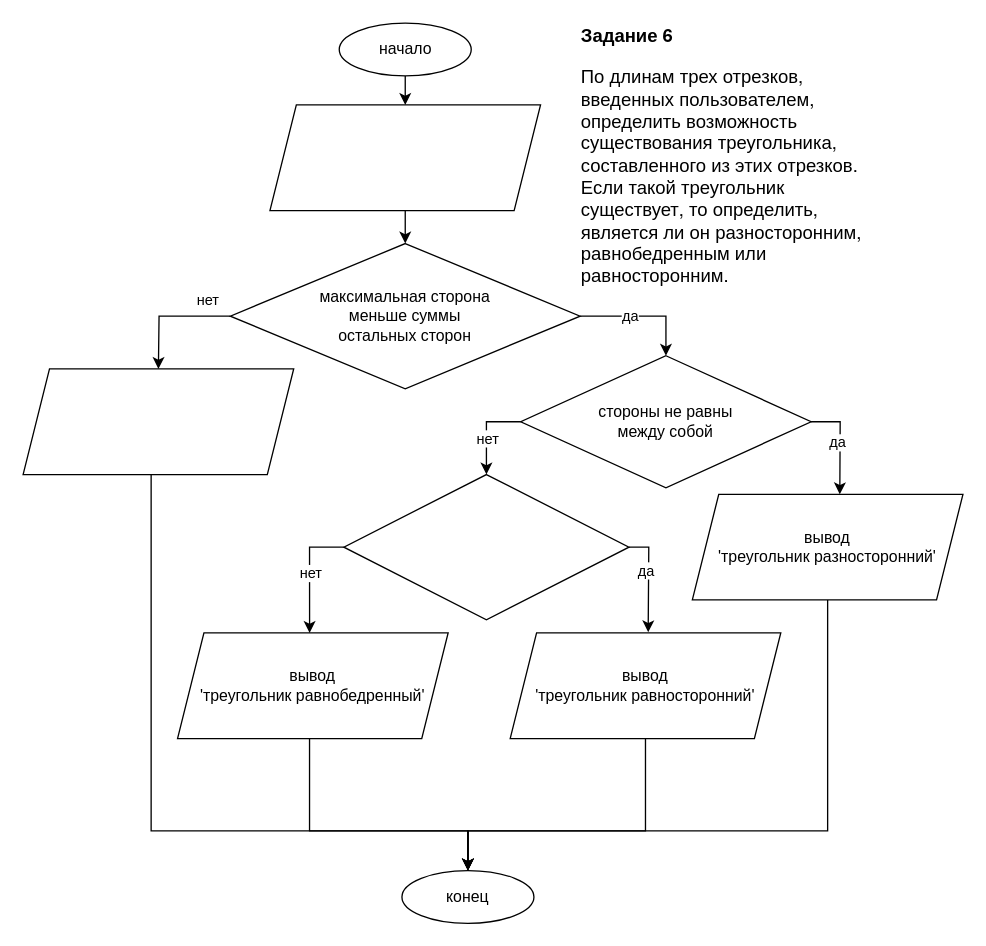
The diagram is 986 pixels wide and 946 high, and some of its shapes have lost their labels. The shapes that lost their labels are listed below. From the top down, each one's centre as x and y in pixels, then its label:
At pixel 405 157: "ввод длин сторон треугольника: side_1, side_2, side_3".
At pixel 158 421: "вывод 'такой треугольник не существует'".
At pixel 486 546: "стороны равны между собой".
